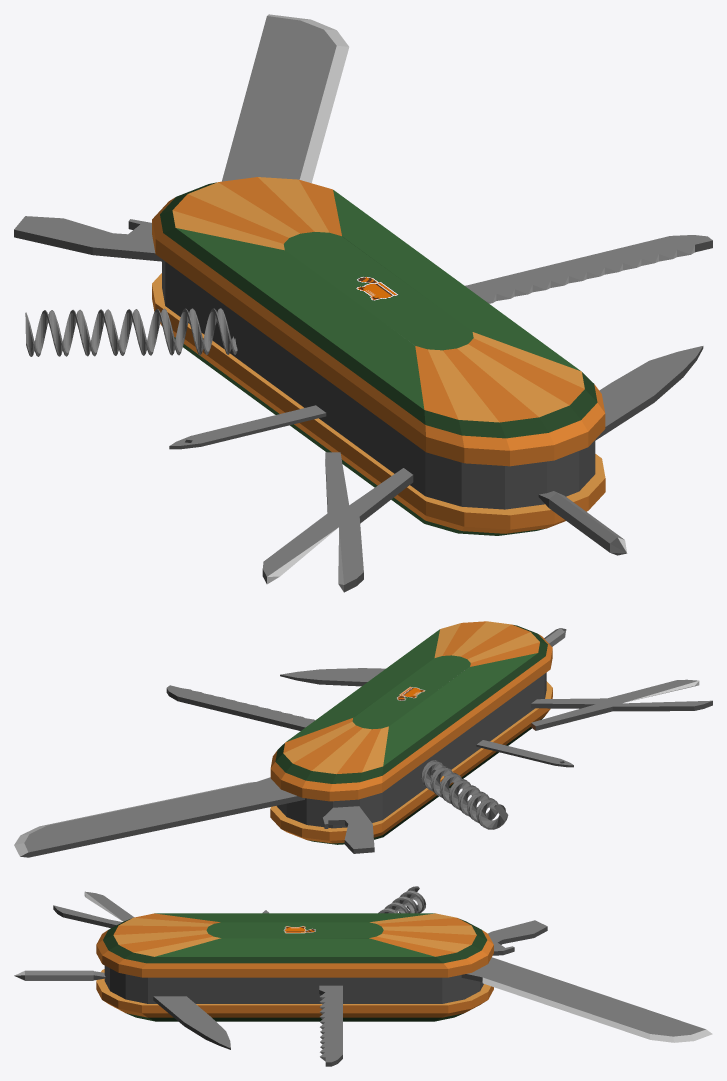
Rendered from WorldItem_SpiffArmyKnife.fbx.
3 views of the same model, one above another, from view 1: azimuth 30°, elevation 25°; view 2: azimuth 150°, elevation 25°; view 3: azimuth 270°, elevation 25° (orthographic). The views are drawn at different scales.
Visible parts, largest first — view 1: ZomboidSpiffArmyKnife; view 2: ZomboidSpiffArmyKnife; view 3: ZomboidSpiffArmyKnife.
Boxes of the visible parts, left/top/right/bottom form: ZomboidSpiffArmyKnife: left=14, top=14, right=712, bottom=592; ZomboidSpiffArmyKnife: left=14, top=621, right=712, bottom=857; ZomboidSpiffArmyKnife: left=14, top=886, right=712, bottom=1066.
Size of the model in its own units: 0.1248 by 0.0242 by 0.2027.
